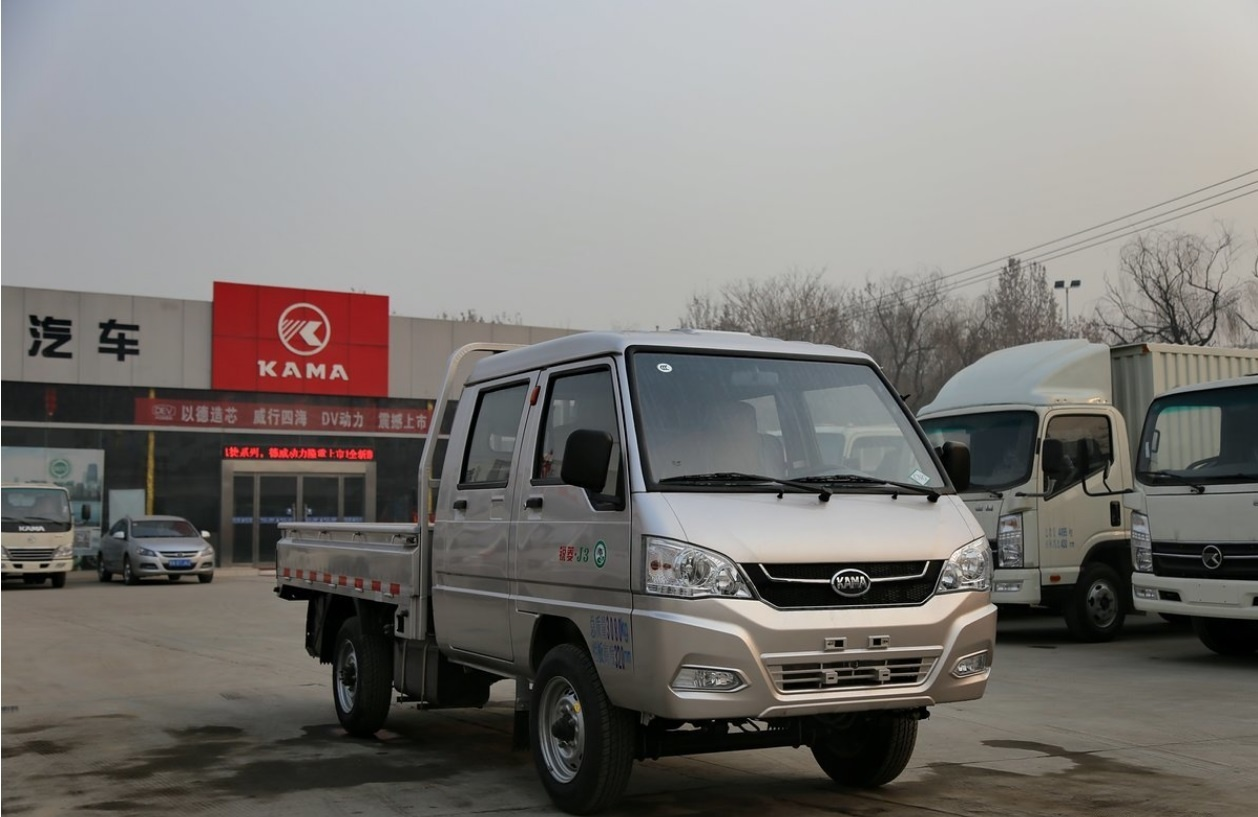truck: (254, 319, 1011, 771)
